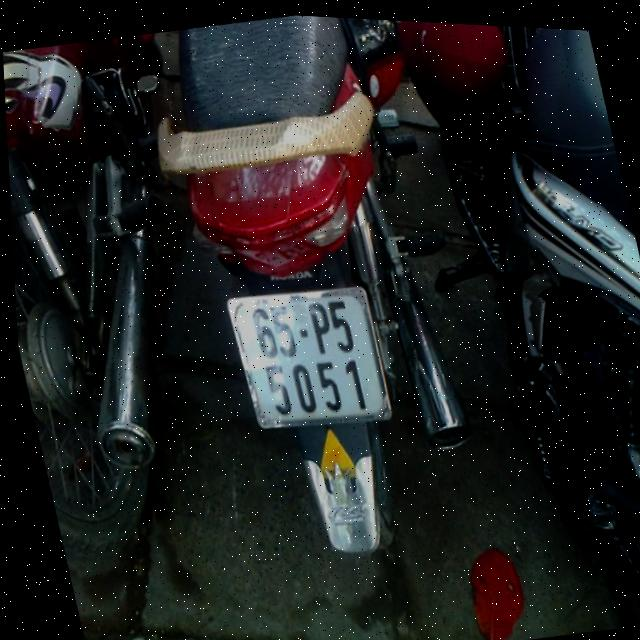motorcycle: (142, 7, 504, 578), (391, 20, 640, 640), (1, 26, 258, 574)
plate: (216, 269, 402, 448)
